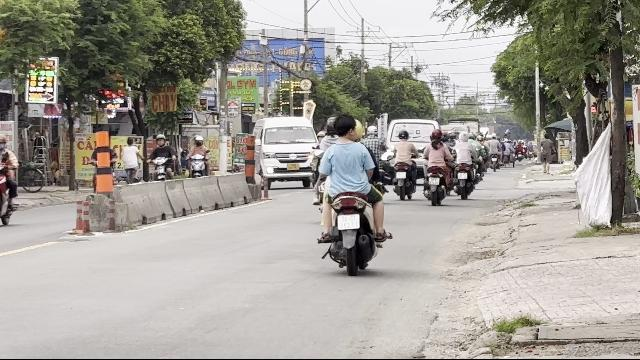licenseplate: (338, 214, 360, 230)
motorcyclist: (312, 114, 392, 274)
nohelmet: (333, 116, 357, 140)
